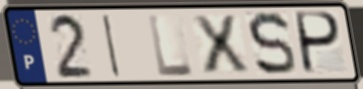2: (48, 11, 95, 81)
I: (101, 13, 123, 80)
L: (145, 12, 197, 79)
P: (295, 10, 344, 77)
S: (245, 10, 299, 78)
X: (189, 13, 252, 76)
